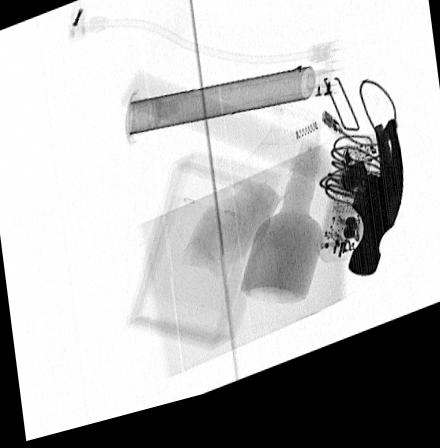Hammer: (120, 74, 404, 297)
